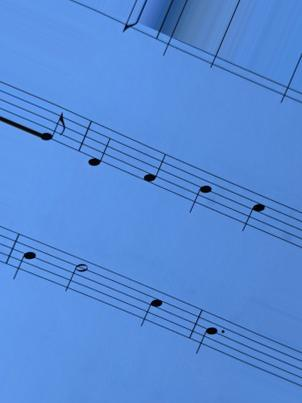B: (192, 302, 218, 373), (185, 158, 213, 219), (11, 229, 39, 285)
D: (84, 112, 112, 176)
F: (139, 138, 168, 197)
HC: (238, 182, 266, 240), (138, 279, 164, 340)
